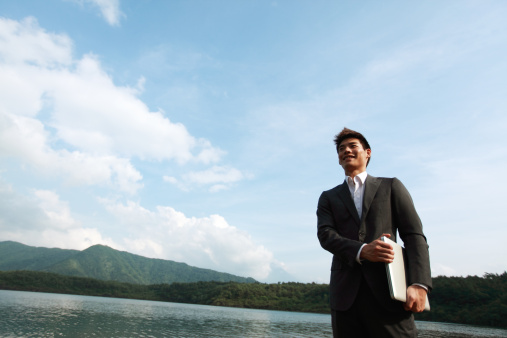em pe: (316, 130, 435, 338)
